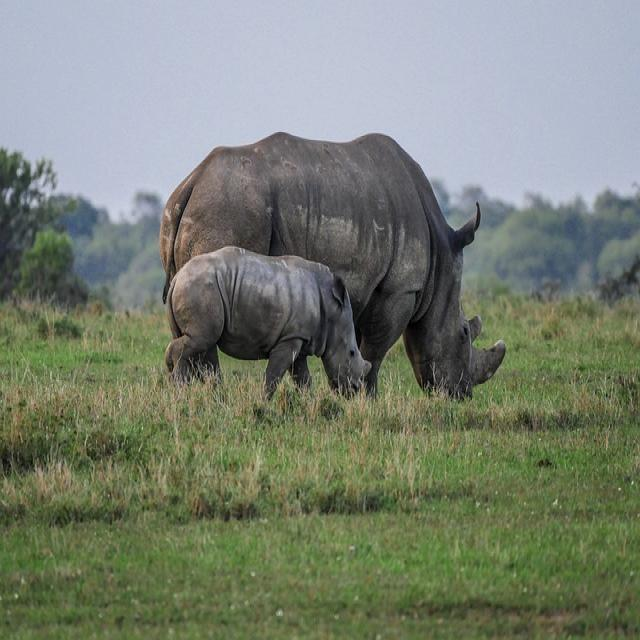Herbivorous: (159, 133, 505, 401), (165, 248, 368, 401)
